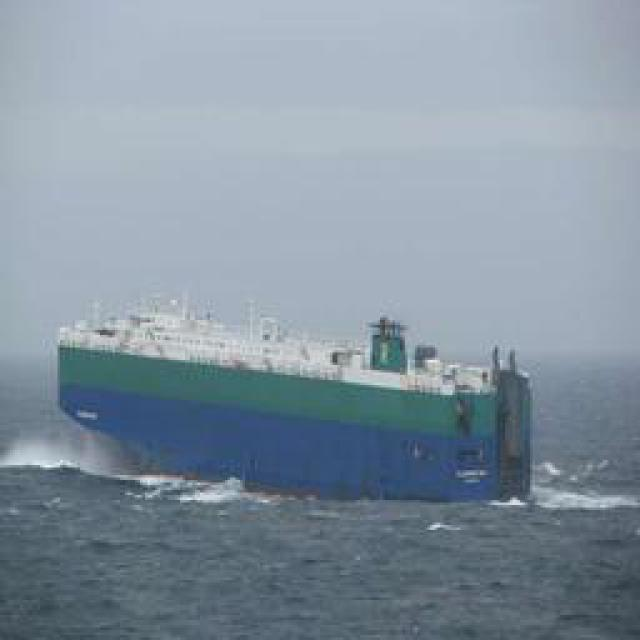Ship: (37, 283, 544, 506)
